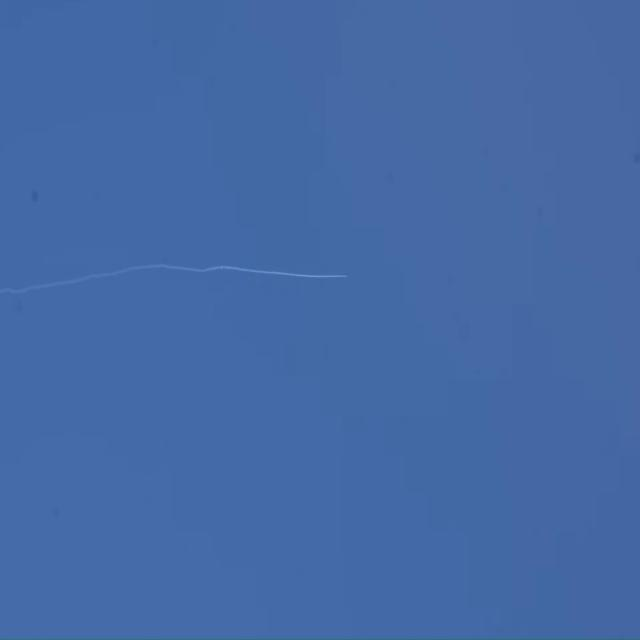Rocket: (346, 274, 348, 278)
